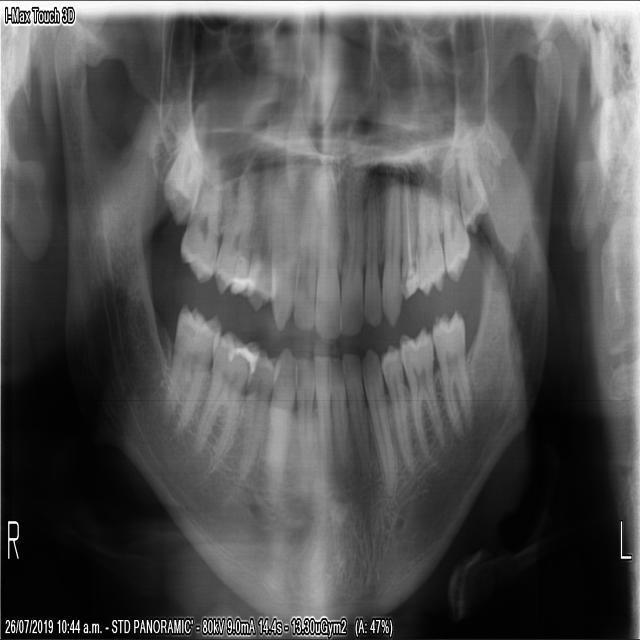LCD: (361, 342, 398, 496)
LCU: (381, 170, 401, 329)
LID: (343, 351, 372, 476), (330, 353, 354, 471)
LIU: (339, 164, 363, 339), (363, 168, 383, 331)
LMD: (397, 322, 445, 466), (429, 304, 475, 443)
LMU: (438, 144, 470, 286), (454, 122, 491, 236), (417, 168, 446, 299)
LPMD: (380, 339, 421, 483)
LPMU: (400, 169, 419, 301)
RCD: (262, 342, 294, 503)
RCU: (269, 157, 296, 336)
RID: (293, 353, 314, 486), (314, 353, 332, 485)
RIU: (313, 183, 339, 344), (290, 176, 317, 331)
RMD: (187, 325, 255, 480), (155, 296, 221, 440)
RMU: (176, 145, 220, 288), (211, 166, 253, 300), (160, 117, 205, 225)
RPMD: (235, 343, 274, 483)
RPMU: (243, 159, 273, 315)
